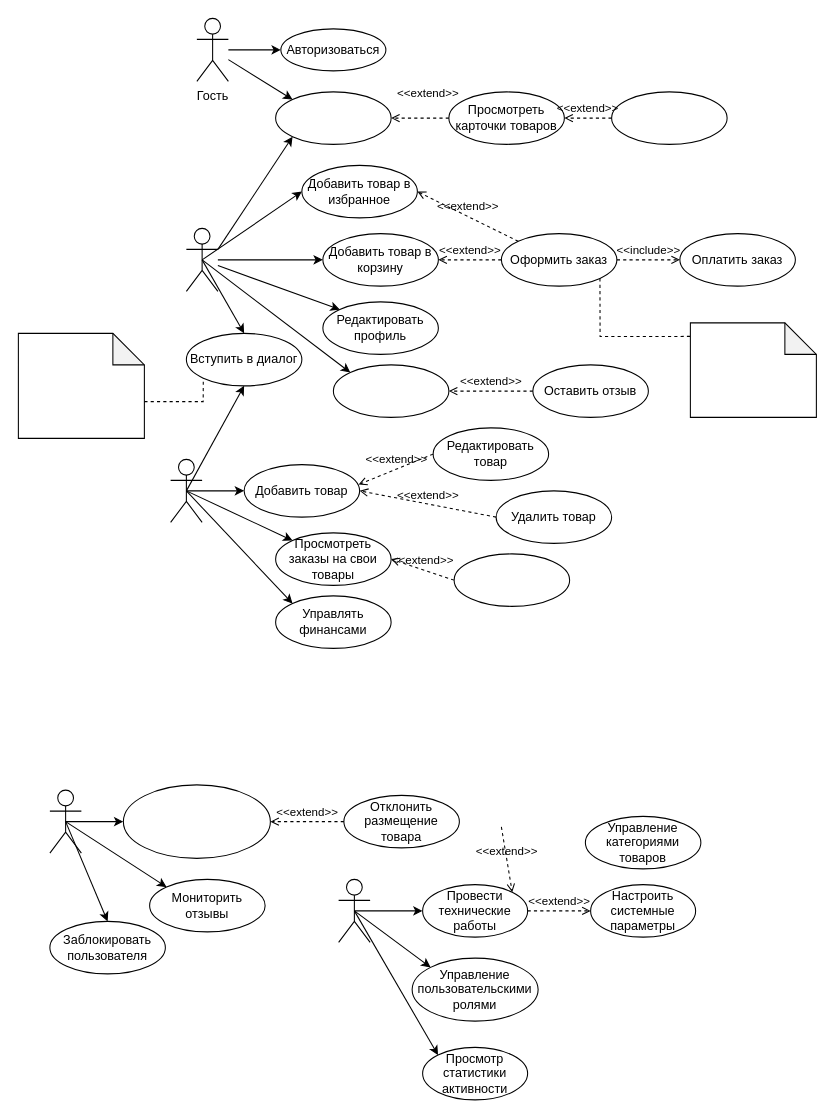
This 835x1118 diagram has some shape labels left out. Here are the shapes that lost their labels. From the top down, the box of each, then its label:
(275, 91, 391, 144): Просмотреть каталог товаров
(611, 91, 727, 144): Просмотреть отзывы на товар
(185, 227, 218, 291): Зарегистрированный пользователь
(17, 332, 144, 438): Вначале проверяется был ли выполнен или оформлен заказ
(689, 322, 816, 417): Вначале проверяется наличие товара на складе
(332, 364, 449, 417): Просмотр истории заказов
(170, 458, 202, 522): Продавец
(453, 553, 570, 606): Просмотреть отзывы
(49, 789, 81, 853): Модератор
(122, 784, 270, 858): Проверить карточку товара, выложенную продавцом
(338, 878, 370, 942): Администратор
